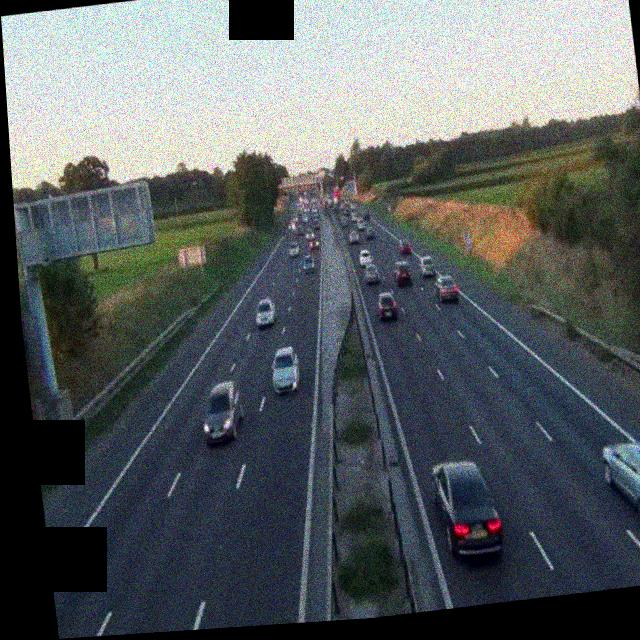car: (429, 456, 505, 560), (602, 436, 640, 536), (199, 380, 245, 446), (270, 345, 303, 394), (435, 274, 460, 304), (253, 296, 276, 328), (375, 292, 398, 322), (393, 260, 413, 287), (418, 255, 438, 277), (362, 260, 380, 284), (359, 248, 374, 269), (302, 254, 316, 273), (399, 240, 413, 256), (287, 240, 300, 257), (307, 234, 319, 250), (363, 225, 375, 240), (348, 230, 360, 245), (362, 210, 372, 222)
